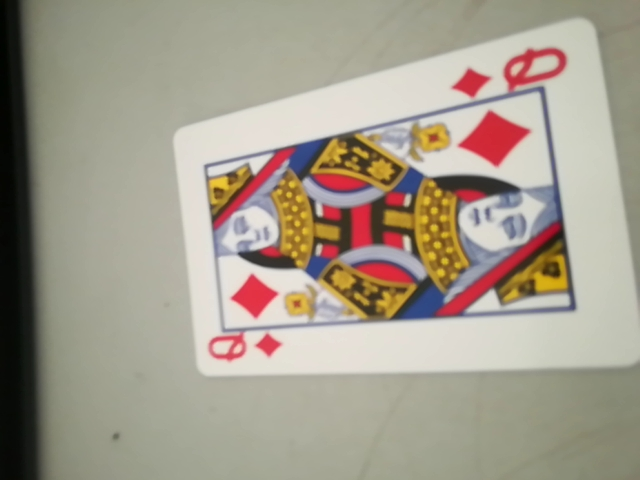fk q: (448, 39, 580, 106), (203, 324, 286, 375)
